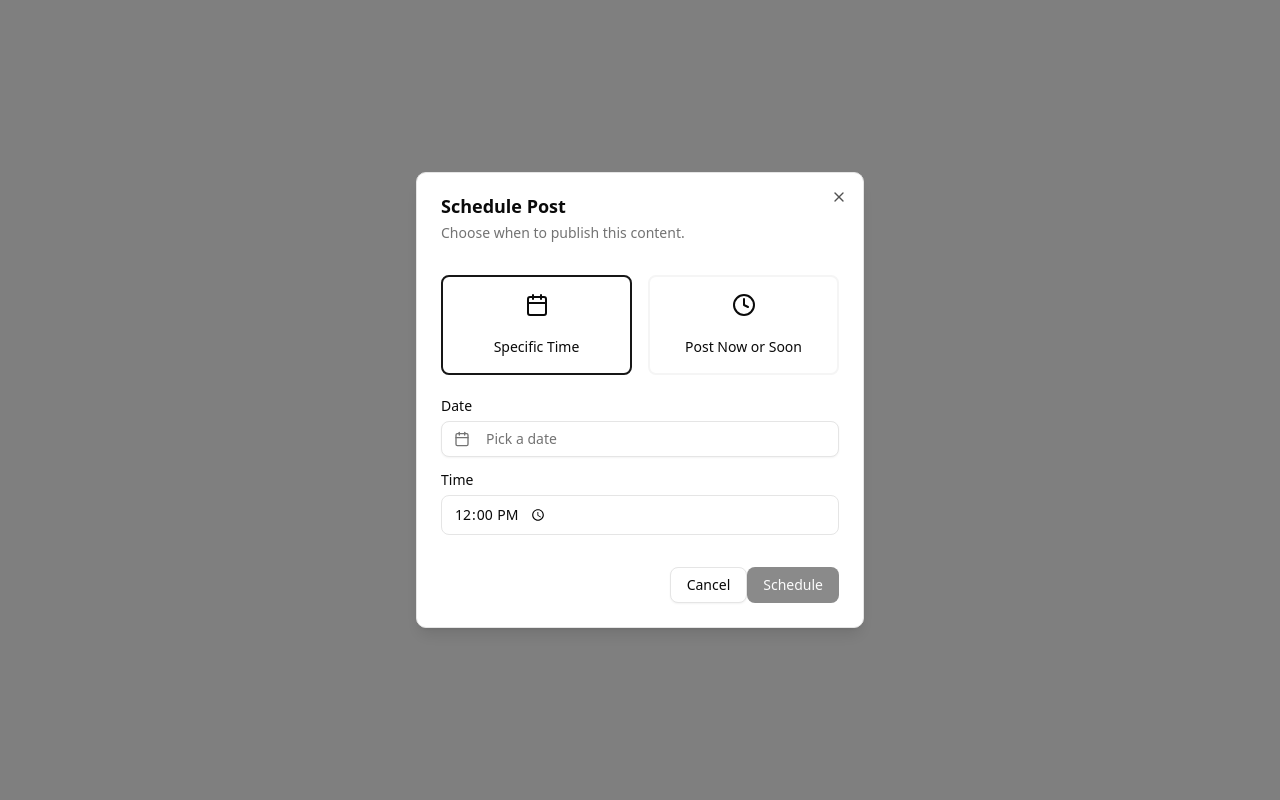
ScheduleDialog › should show soon interval options when soon mode is selected
Note: Click on "Post Now or Soon" radio option
What coordinates should you click on to do the following:
click the text "Post Now or Soon"
I would click on:
 (744, 347)
Its box is [685,337,802,357].
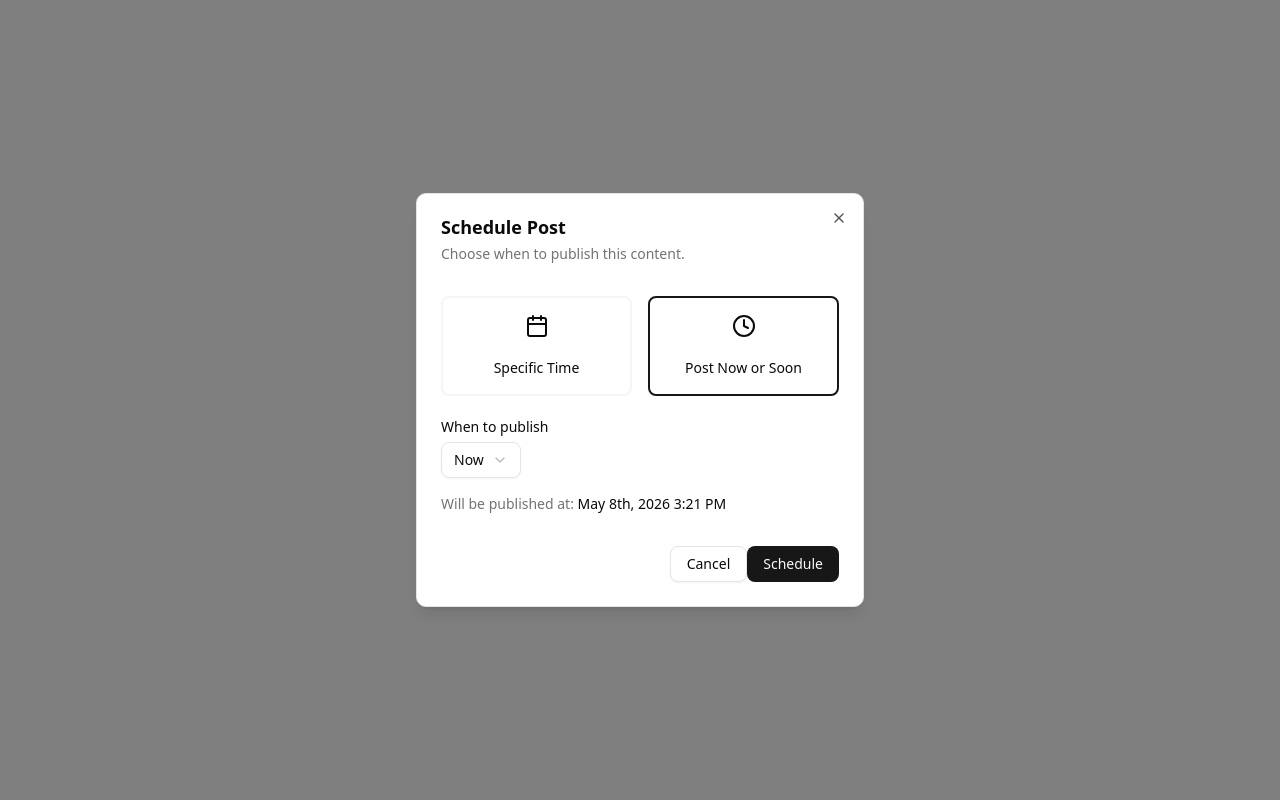
Now the text "When to publish" is shown, box [441,417,548,436]
